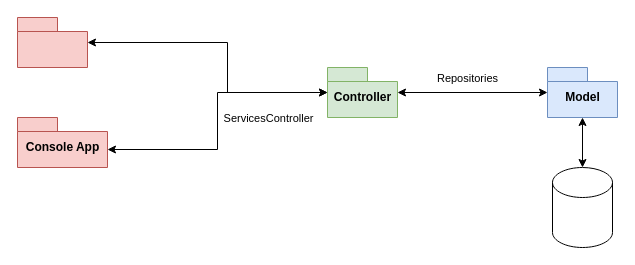
Some shapes in this 635 by 265 pixel diagram are drawn without their labels. Each missing label, with the centre of its shape:
Files (json): [582,207]
UI: [52,42]
